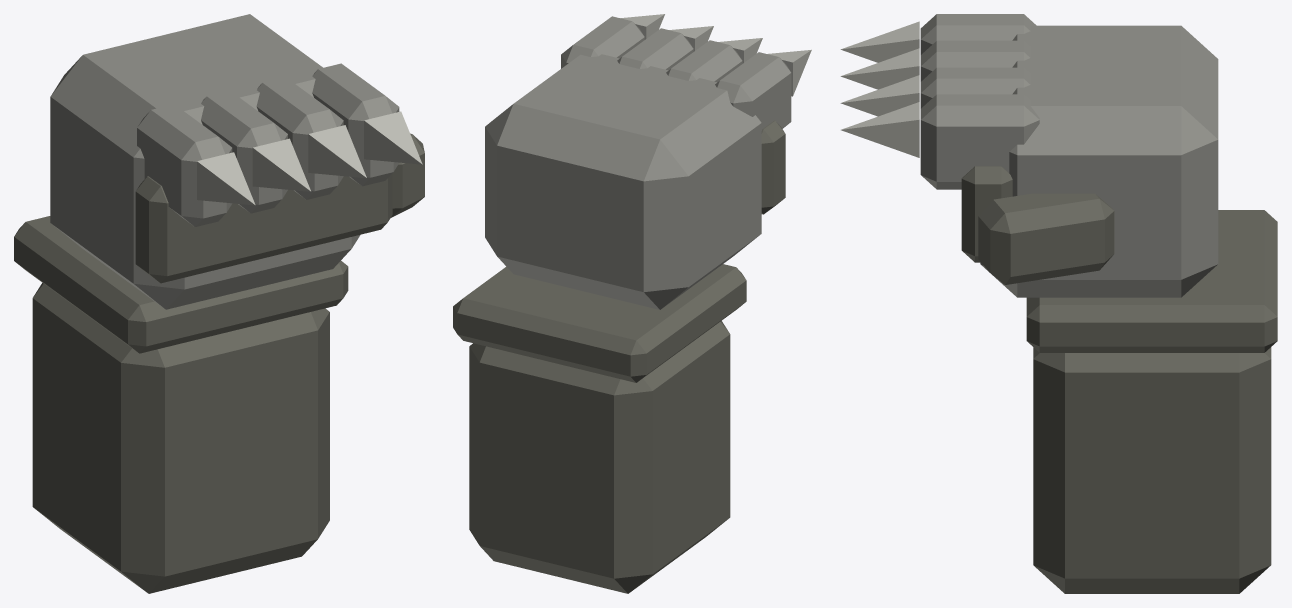
The model's file is StoneGauntlet.fbx.
3 views of the same model, side by side, from view 1: azimuth 30°, elevation 25°; view 2: azimuth 150°, elevation 25°; view 3: azimuth 270°, elevation 25° (orthographic). The views are drawn at different scales.
Visible parts, largest first — view 1: StoneGauntlet; view 2: StoneGauntlet; view 3: StoneGauntlet.
Part boxes in pixels (x1,y1,x2,y2): StoneGauntlet: (14, 14, 424, 593); StoneGauntlet: (453, 14, 811, 593); StoneGauntlet: (840, 14, 1277, 593).
Size of the model in its own units: 1.26 by 2.08 by 1.65.
1 material, 1 textured.
